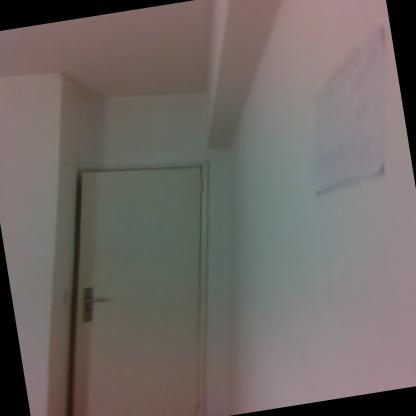closed: (27, 133, 265, 415)
